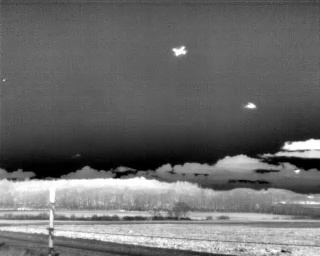DRONE: (169, 41, 191, 61)
